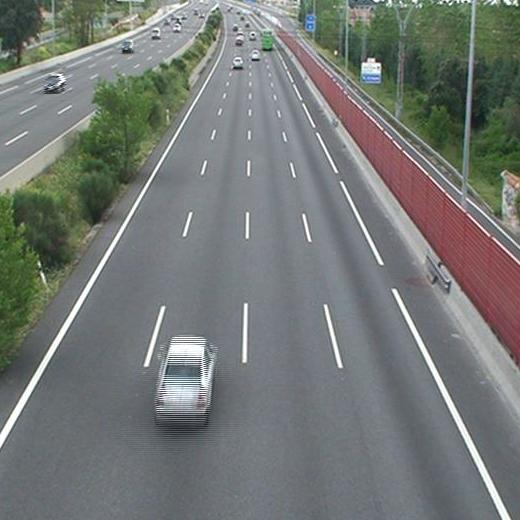bus: (262, 29, 273, 50)
car: (154, 337, 216, 421), (232, 56, 243, 67), (250, 50, 259, 61)
